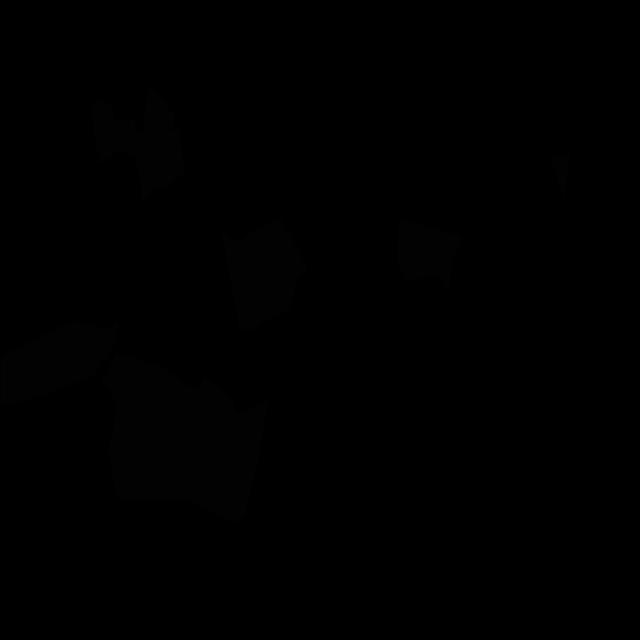cardboard: (100, 352, 268, 524), (218, 217, 308, 332), (0, 320, 118, 406), (92, 100, 154, 200), (396, 218, 462, 294), (137, 129, 184, 188), (144, 83, 176, 147), (551, 154, 571, 200)
